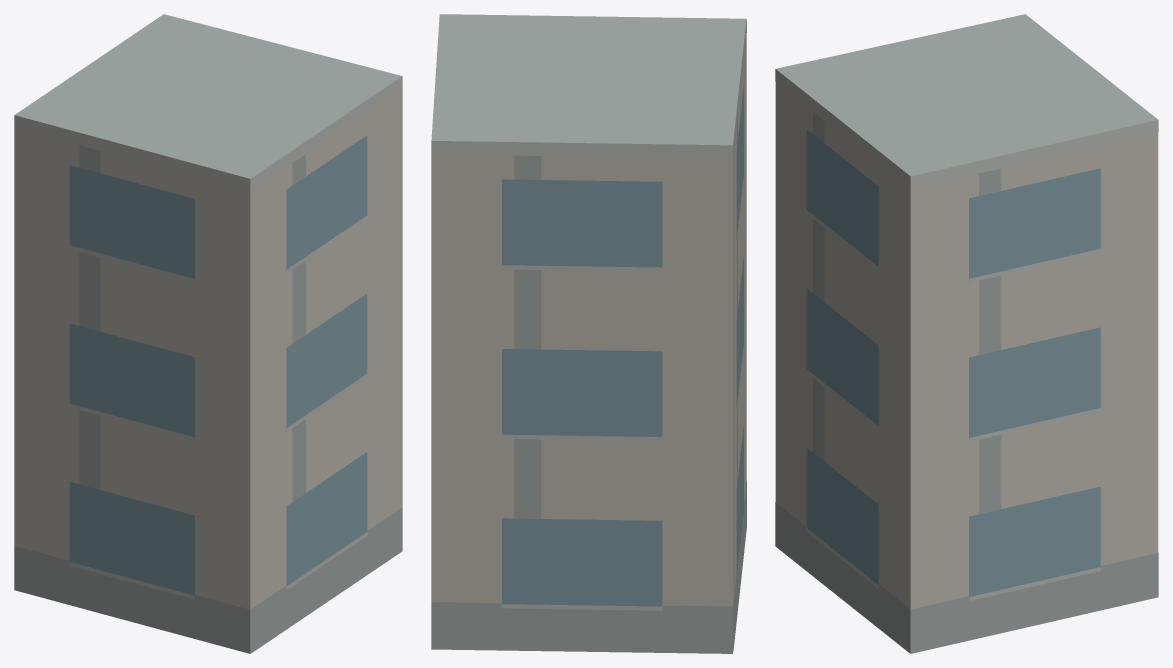
The model's file is survey-upis-32775089.glb.
3 renders of one model, left to right at view 1: azimuth 30°, elevation 25°; view 2: azimuth 150°, elevation 25°; view 3: azimuth 270°, elevation 25°, orthographic. The views are drawn at different scales.
Parts seen in each view (by area): view 1: survey-upis-32775089.tmp; view 2: survey-upis-32775089.tmp; view 3: survey-upis-32775089.tmp.
Part boxes in pixels (x1,y1,x2,y2): survey-upis-32775089.tmp: (14,14,402,653); survey-upis-32775089.tmp: (431,14,746,653); survey-upis-32775089.tmp: (775,14,1158,653).
Size of the model in its own units: 6.68 by 9.15 by 6.66.
